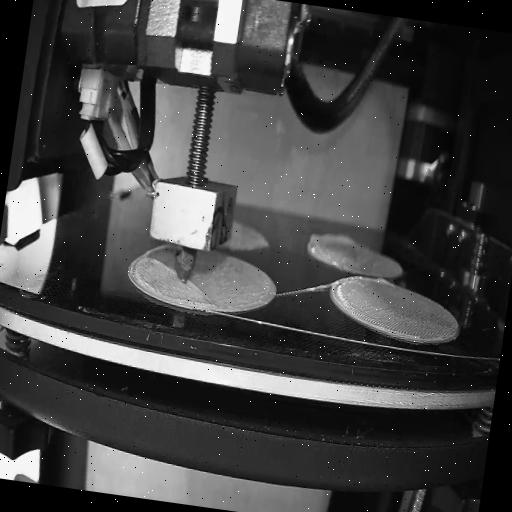over_extrusion: (303, 228, 357, 258), (148, 253, 178, 274), (182, 279, 211, 299), (372, 275, 396, 289)
